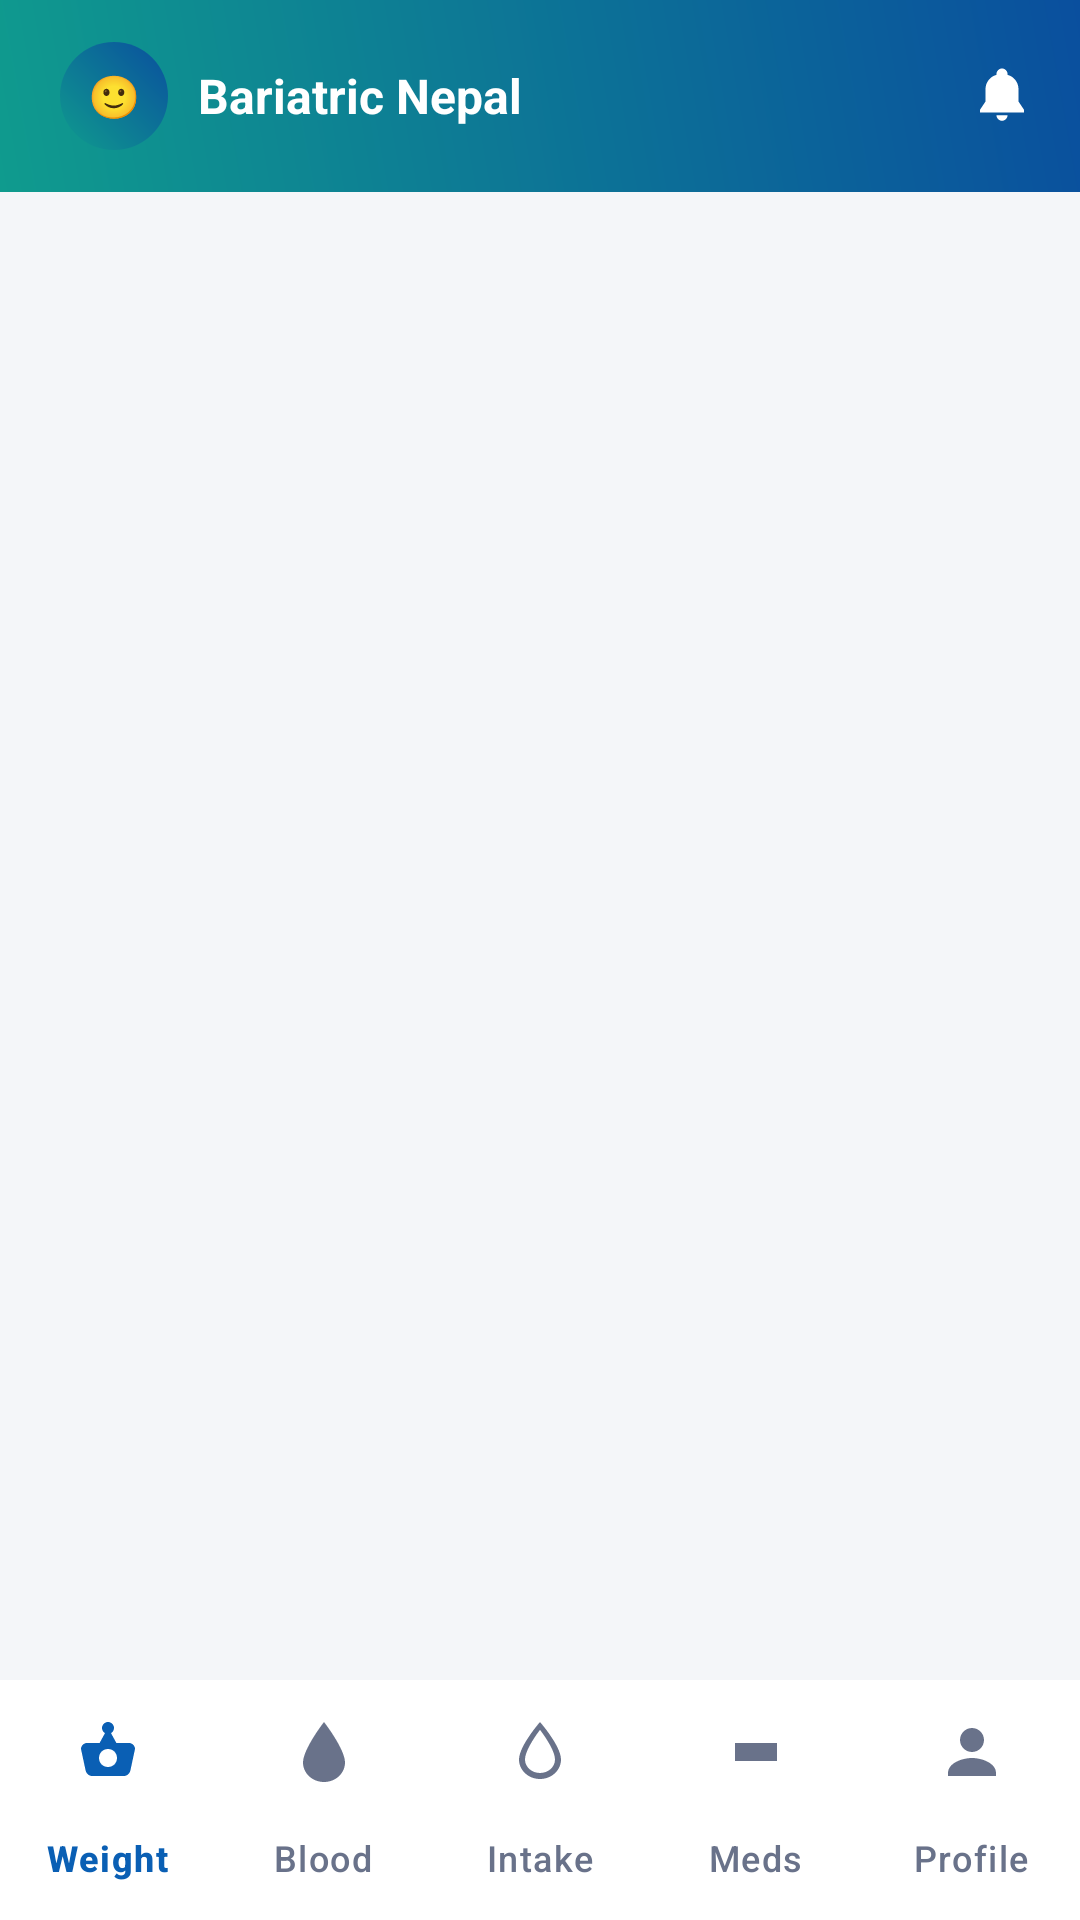

Icons on this 1080 x 1920 Android screen, each with its box as (x1, y1, x2, y2):
Notifications: (980, 68, 1024, 121)
